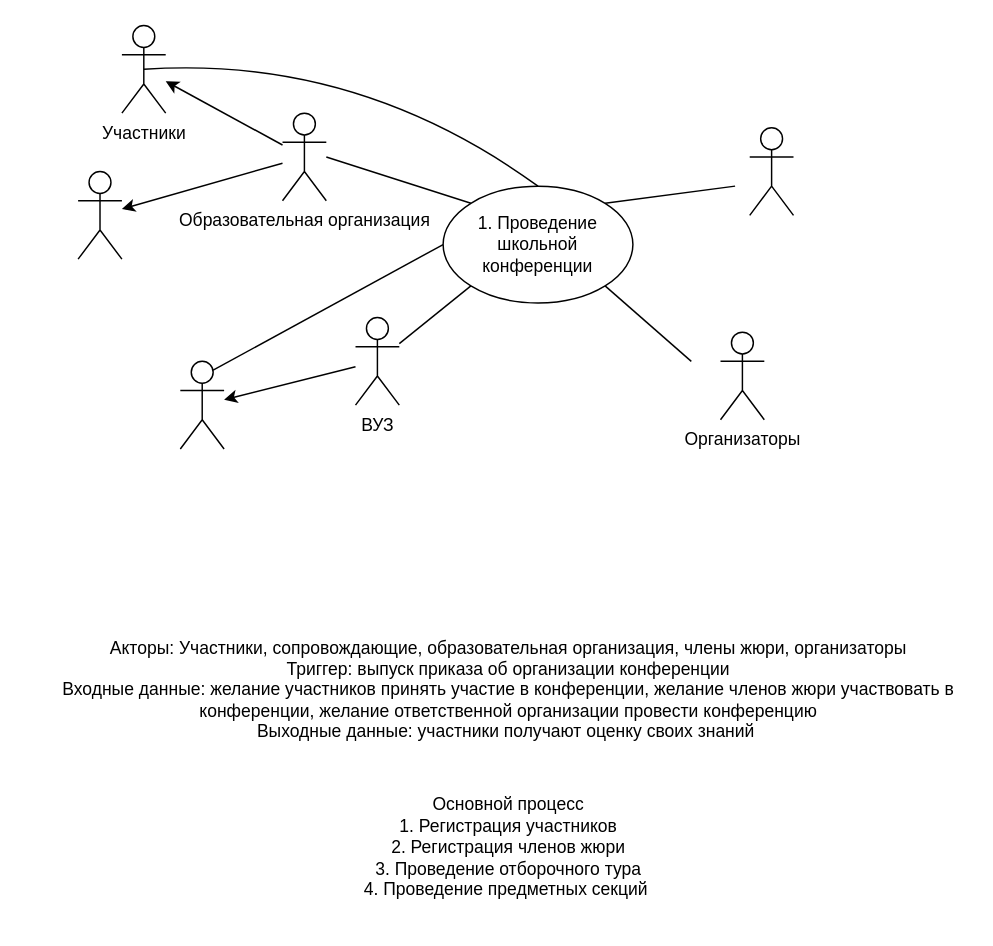
Some shapes in this 993 by 946 pixel diagram are drawn without their labels. The box of each missing label's shape, as (x1, y1, x2, y2) in pixels:
Российский совет олимпиад школьников: (748, 126, 794, 215)
Сопровождающие: (77, 170, 122, 259)
Члены жюри: (179, 360, 224, 449)
